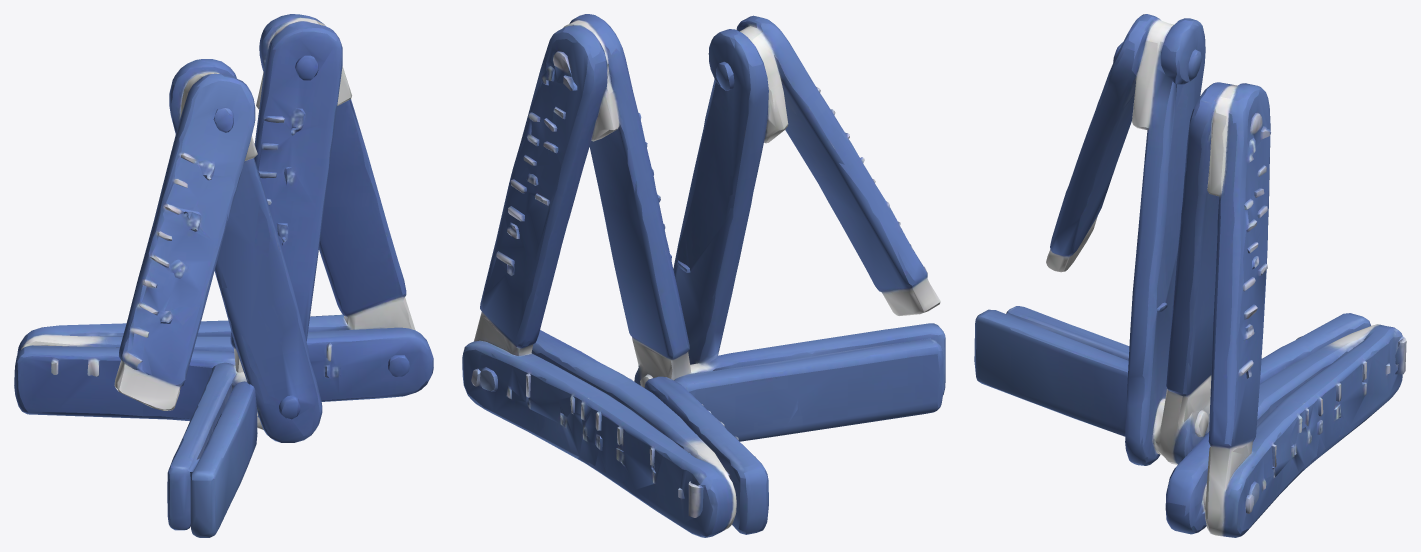
Rendered from i_size.glb.
3 views of the same model, side by side, from view 1: azimuth 30°, elevation 25°; view 2: azimuth 150°, elevation 25°; view 3: azimuth 270°, elevation 25° (orthographic). The views are drawn at different scales.
Parts seen in each view (by area): view 1: geometry_0; view 2: geometry_0; view 3: geometry_0.
Boxes of the visible parts, x1,y1,x2,y2 form: geometry_0: (14, 14, 433, 537); geometry_0: (462, 14, 945, 537); geometry_0: (974, 14, 1406, 537).
Size of the model in its own units: 0.2 by 0.1997 by 0.1907.
1 material, 1 textured.
